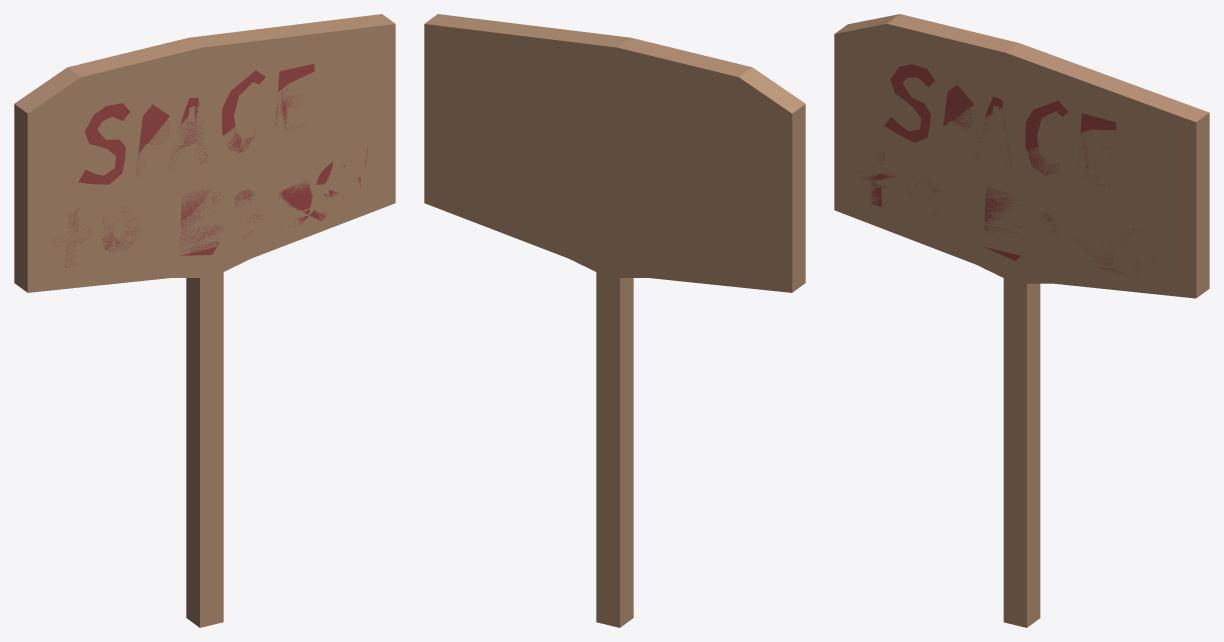
The model's file is SpacetoBooseFirejet.fbx.
3 renders of one model, left to right at view 1: azimuth 30°, elevation 25°; view 2: azimuth 150°, elevation 25°; view 3: azimuth 330°, elevation 25°, orthographic.
Visible parts, largest first — view 1: Cube.007; view 2: Cube.007; view 3: Cube.007.
Boxes of the visible parts, left/top/right/bottom form: Cube.007: left=14, top=14, right=395, bottom=627; Cube.007: left=424, top=14, right=805, bottom=627; Cube.007: left=834, top=14, right=1209, bottom=627.
Size of the model in its own units: 565 by 851 by 36.12.
